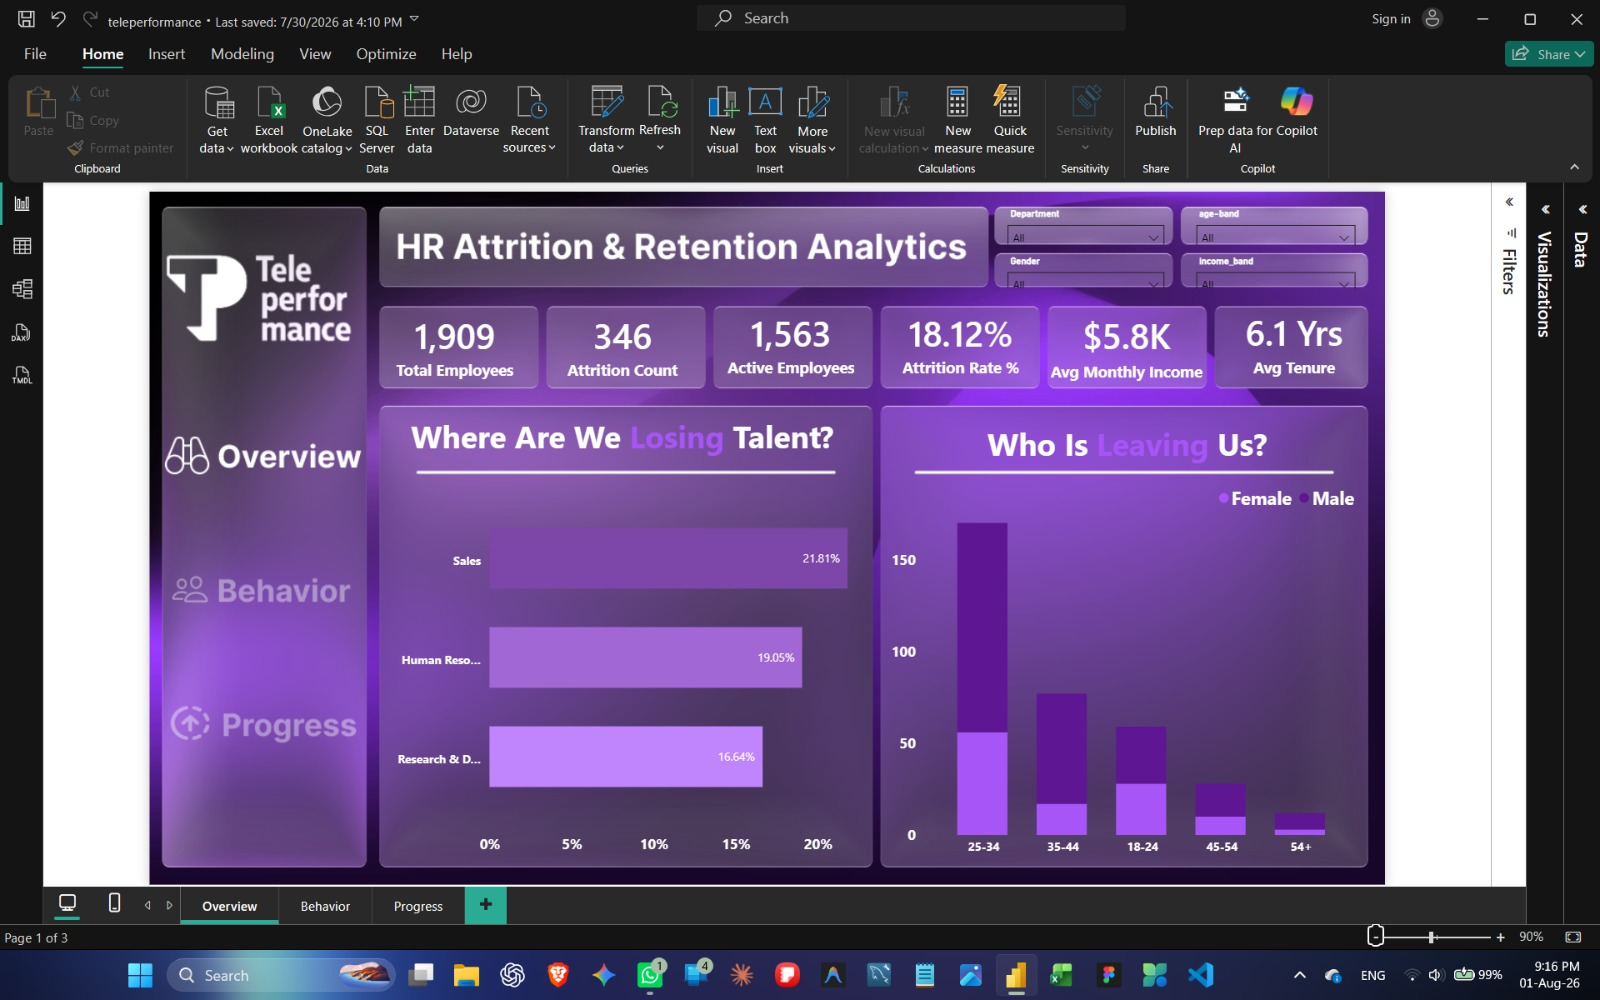

What the dashboard file says about the page in this screenshot:
{"tool":"powerbi","page":{"name":"Overview","canvas":[1280,720],"ordinal":0},"visuals":[{"type":"actionButton","box":[14.3,388.6,210,55.7],"z":0},{"type":"actionButton","box":[15.7,527.1,210,55.7],"z":1000},{"type":"slicer","fields":{"Values":["jop_dim.Department"]},"box":[878.7,16.7,182.7,38],"z":2000},{"type":"slicer","fields":{"Values":["employee_dim.age-band"]},"box":[1074.4,16.2,184.4,38.8],"z":3000},{"type":"slicer","fields":{"Values":["employee_dim.Gender"]},"box":[879.1,65.5,182.7,34.5],"z":4000},{"type":"slicer","fields":{"Values":["employee_dim.income_band"]},"box":[1074.3,65.2,184.3,34.8],"z":5000},{"type":"cardVisual","fields":{"Data":["mesures.Total Employees"]},"box":[226,106,182.7,108],"z":6000},{"type":"cardVisual","fields":{"Data":["mesures.Attrition Count"]},"box":[397.3,106,185.3,108],"z":7000},{"type":"cardVisual","fields":{"Data":["mesures.Active Employees"]},"box":[568,100,194.7,114],"z":8000},{"type":"cardVisual","fields":{"Data":["mesures.Attrition Rate %"]},"box":[750,100,181.3,114],"z":9000},{"type":"cardVisual","fields":{"Data":["mesures.Avg Monthly Income"]},"box":[902.5,106.2,220,107.5],"z":10000},{"type":"cardVisual","fields":{"Data":["mesures.Avg Tenure"]},"box":[1092.5,100,187.5,113.8],"z":11000},{"type":"barChart","fields":{"Category":["employee_dim.Department"],"Y":["mesures.Attrition Rate %"]},"box":[237.5,294.2,505.8,402.5],"z":12000},{"type":"textbox","box":[260,234.3,460,60],"z":13000},{"type":"columnChart","fields":{"Category":["employee_dim.age-band"],"Y":["mesures.Attrition Count"],"Series":["employee_dim.Gender"]},"box":[762.9,294.3,495.7,402.9],"z":14000},{"type":"textbox","box":[789.1,234,448.1,59.9],"z":15000}]}

Visuals, with their boxes on the page's 1280x720 design canvas (x1, y1, x2, y2). These are canvas units, not pixel positions in the 1600x1000 screenshot, which may show the page scaled, cropped or inside an application window:
actionButton: BBox(14, 389, 224, 444)
actionButton: BBox(16, 527, 226, 583)
slicer - jop_dim.Department: BBox(879, 17, 1061, 55)
slicer - employee_dim.age-band: BBox(1074, 16, 1259, 55)
slicer - employee_dim.Gender: BBox(879, 66, 1062, 100)
slicer - employee_dim.income_band: BBox(1074, 65, 1259, 100)
cardVisual - mesures.Total Employees: BBox(226, 106, 409, 214)
cardVisual - mesures.Attrition Count: BBox(397, 106, 583, 214)
cardVisual - mesures.Active Employees: BBox(568, 100, 763, 214)
cardVisual - mesures.Attrition Rate %: BBox(750, 100, 931, 214)
cardVisual - mesures.Avg Monthly Income: BBox(902, 106, 1122, 214)
cardVisual - mesures.Avg Tenure: BBox(1092, 100, 1280, 214)
barChart - employee_dim.Department x mesures.Attrition Rate %: BBox(238, 294, 743, 697)
textbox: BBox(260, 234, 720, 294)
columnChart - employee_dim.age-band x mesures.Attrition Count: BBox(763, 294, 1259, 697)
textbox: BBox(789, 234, 1237, 294)
